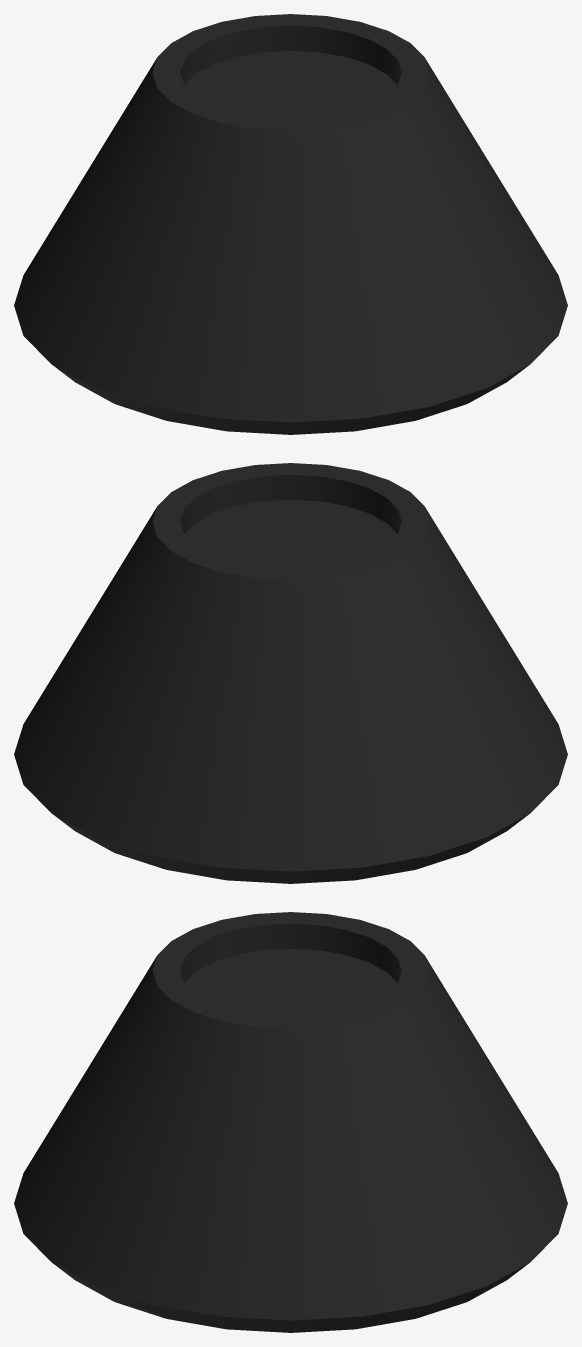
The model's file is Auriga_DrogueParachute_1.obj.
3 views of the same model, one above another, from view 1: azimuth 30°, elevation 25°; view 2: azimuth 150°, elevation 25°; view 3: azimuth 270°, elevation 25° (orthographic).
Parts seen in each view (by area): view 1: Auriga_DrogueParachute_1; view 2: Auriga_DrogueParachute_1; view 3: Auriga_DrogueParachute_1.
Boxes of the visible parts, x1,y1,x2,y2 form: Auriga_DrogueParachute_1: [14, 14, 567, 434]; Auriga_DrogueParachute_1: [14, 463, 567, 883]; Auriga_DrogueParachute_1: [14, 912, 567, 1332].
Bounding box in the file's own units: 0.625 × 0.32 × 0.625.
